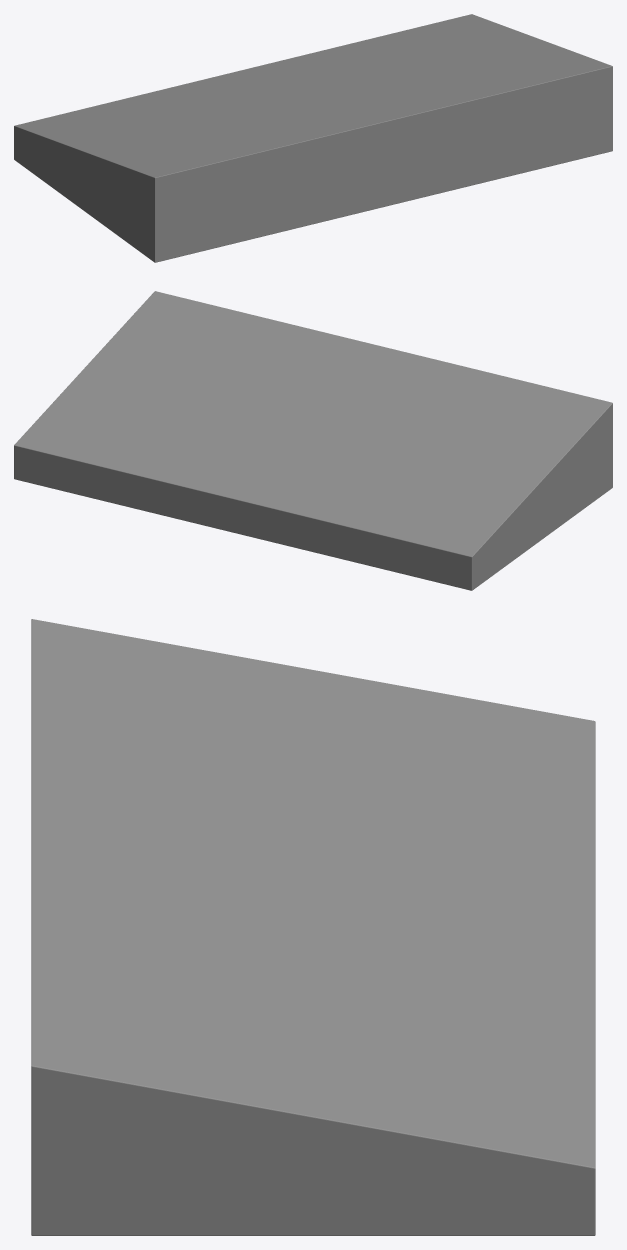
The model's file is range_oven__range_hood.glb.
3 renders of one model, top to bottom at view 1: azimuth 30°, elevation 25°; view 2: azimuth 150°, elevation 25°; view 3: azimuth 270°, elevation 25°, orthographic. The views are drawn at different scales.
Parts seen in each view (by area): view 1: body; view 2: body; view 3: body.
Boxes of the visible parts, x1,y1,x2,y2 form: body: [14, 14, 612, 262]; body: [14, 291, 612, 590]; body: [31, 619, 595, 1235].
Size of the model in its own units: 0.9 by 0.1688 by 0.48.
Materials: 4 (2 with a texture image).
